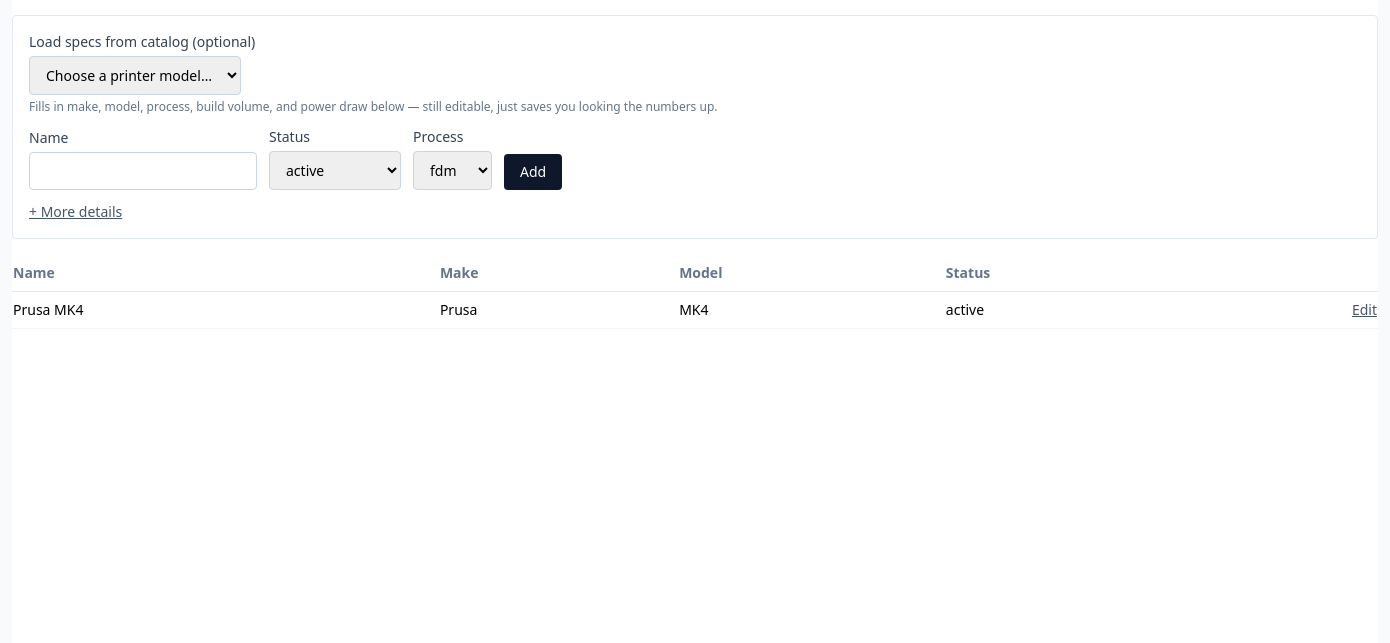
Test: PrintersListPage — edit in place › clicking Edit shows that row pre-filled with its current values (null optional fields become blank inputs)
Check: the text "Prusa MK4" is shown, box [12,292,439,328]
Click the button "Edit" at x=1364, y=310, box [1352,300,1377,320]
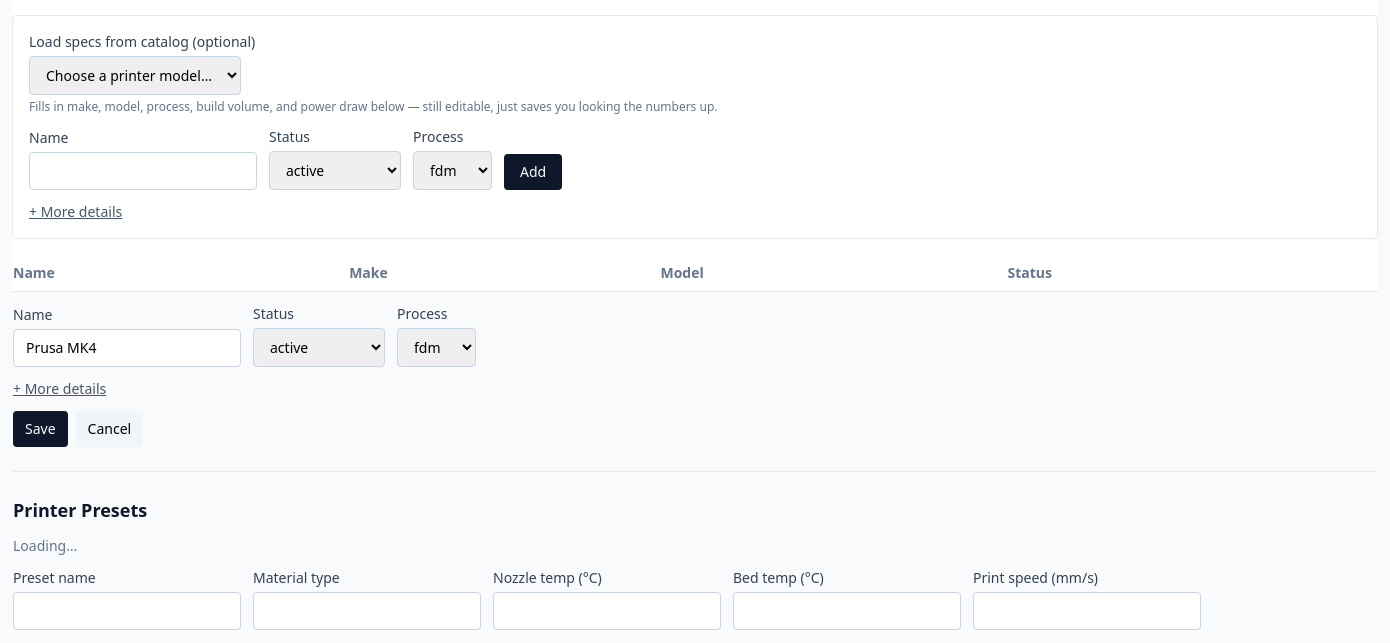
Check: the 2nd field labelled "Name" holds "Prusa MK4", box [13,329,241,367]
Click the 2nd button "+ More details" at x=60, y=389, box [13,379,106,399]
(page scrolled)
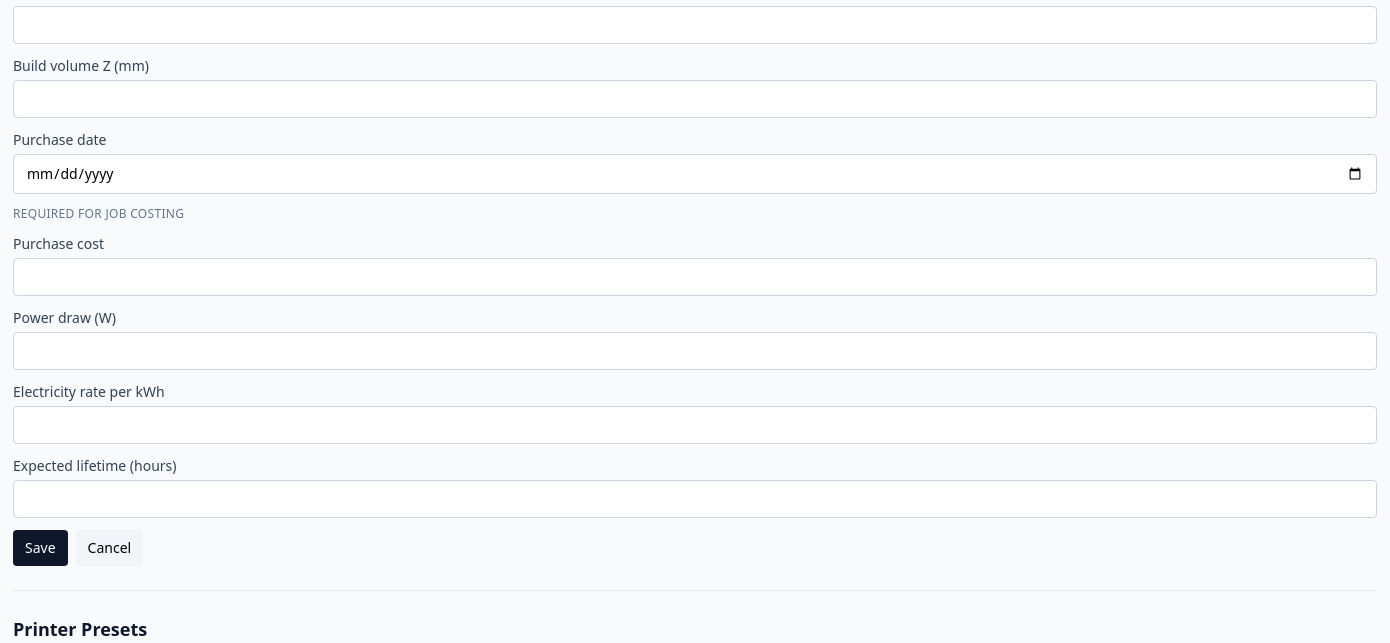
Check: the number field labelled "Power draw (W)" is not empty, box [13,332,1377,370]
